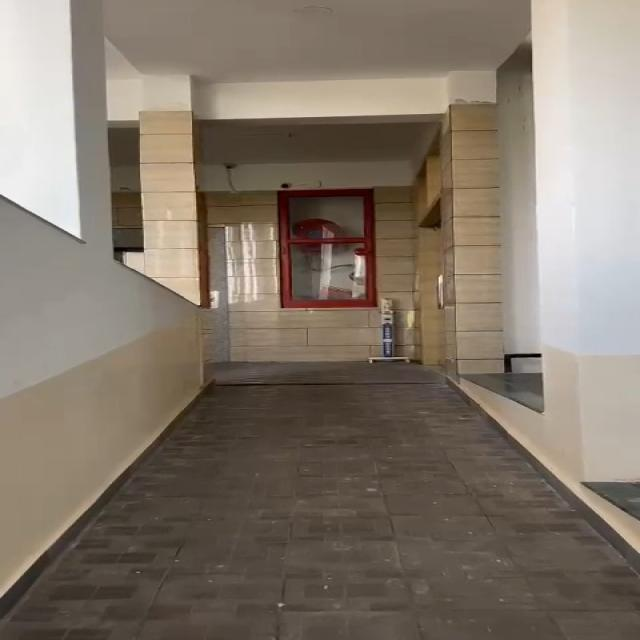floor: (171, 376, 552, 640)
wall: (0, 0, 255, 415), (382, 51, 640, 406)
